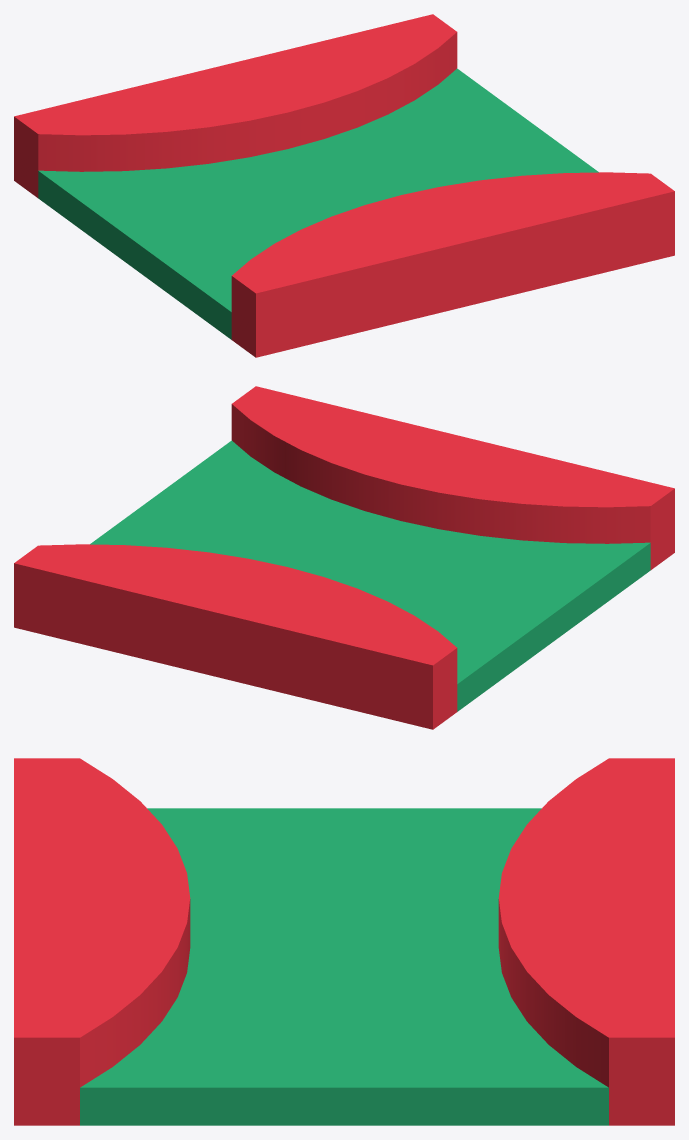
Rendered from narrowRound.obj.
3 views of the same model, one above another, from view 1: azimuth 30°, elevation 25°; view 2: azimuth 150°, elevation 25°; view 3: azimuth 270°, elevation 25° (orthographic). The views are drawn at different scales.
Visible parts, largest first — view 1: narrowRound; view 2: narrowRound; view 3: narrowRound.
Boxes of the visible parts, <box> form: narrowRound: <box>14,14,674,357</box>; narrowRound: <box>14,386,674,729</box>; narrowRound: <box>14,758,674,1125</box>.
Size of the model in its own units: 0.9999 by 0.1467 by 0.9999.
